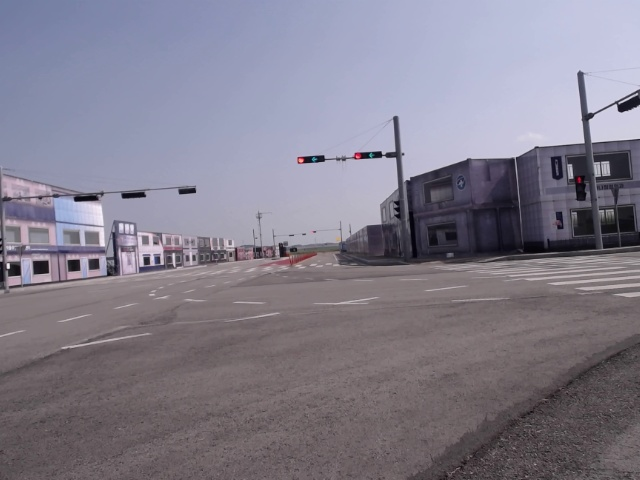left_green_4: (355, 151, 383, 161), (297, 156, 326, 164)
